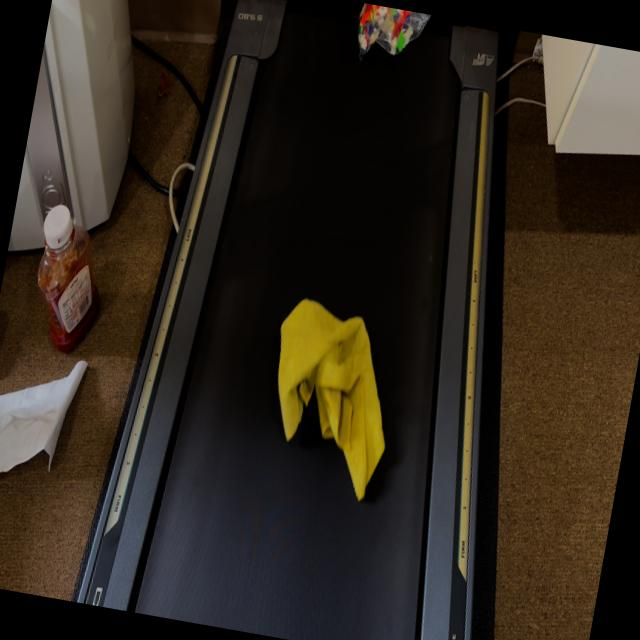Trash: (247, 307, 407, 476), (338, 0, 428, 73)
